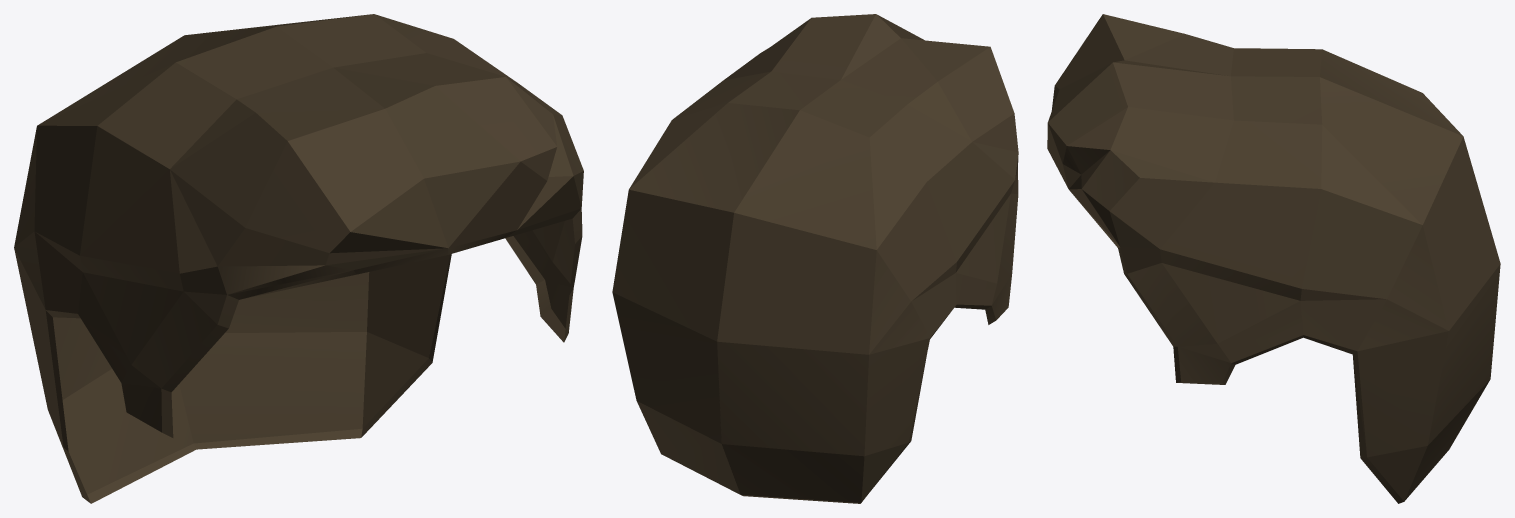
The model's file is Hair_02_SM.FBX.
3 views of the same model, side by side, from view 1: azimuth 30°, elevation 25°; view 2: azimuth 150°, elevation 25°; view 3: azimuth 270°, elevation 25° (orthographic). The views are drawn at different scales.
Parts seen in each view (by area): view 1: Hair_02_SM; view 2: Hair_02_SM; view 3: Hair_02_SM.
Part boxes in pixels (x1,y1,x2,y2): Hair_02_SM: (14,14,583,503); Hair_02_SM: (612,14,1018,503); Hair_02_SM: (1047,14,1500,503).
Size of what is drawn, in the model's own units: 19.7 by 23.33 by 22.72.
